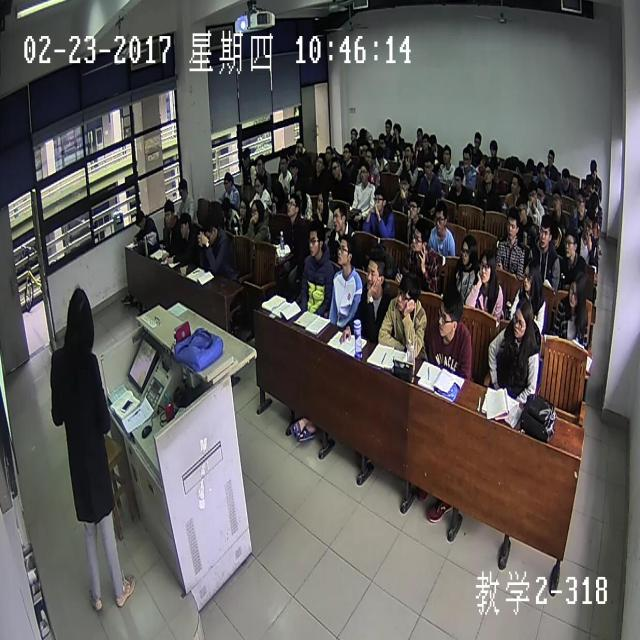person: (64, 288, 94, 350), (435, 286, 461, 336), (394, 270, 420, 318), (364, 254, 384, 298), (512, 298, 532, 338), (330, 202, 348, 238), (476, 248, 494, 284), (309, 220, 326, 254), (522, 256, 538, 292), (335, 239, 354, 269), (460, 227, 476, 261), (584, 213, 600, 247), (566, 279, 584, 308), (506, 213, 522, 243), (374, 189, 390, 218), (412, 221, 429, 248), (396, 166, 410, 198), (331, 151, 344, 185), (548, 219, 563, 248), (250, 201, 267, 226), (358, 165, 375, 190), (538, 216, 552, 246), (514, 192, 528, 222), (315, 188, 329, 216), (428, 128, 442, 156), (250, 170, 265, 196), (420, 154, 435, 180), (162, 198, 178, 222), (286, 191, 300, 218), (376, 130, 390, 157), (178, 210, 191, 239), (206, 222, 221, 247), (133, 204, 147, 230), (270, 178, 284, 204), (364, 146, 380, 168), (400, 143, 415, 166), (423, 193, 438, 216), (534, 160, 549, 183), (341, 142, 355, 166), (436, 206, 448, 234), (527, 180, 538, 210), (220, 194, 232, 221), (405, 201, 419, 224), (551, 190, 564, 214), (587, 188, 601, 210), (560, 166, 572, 191), (276, 148, 289, 171), (451, 170, 464, 193), (288, 158, 302, 179), (535, 182, 547, 206), (564, 233, 577, 255), (511, 178, 523, 201), (241, 148, 254, 169), (462, 149, 472, 176), (254, 152, 266, 174), (236, 199, 249, 219), (223, 172, 235, 193), (514, 160, 526, 180), (587, 155, 597, 179), (175, 178, 188, 196), (414, 123, 425, 143), (440, 143, 451, 163), (485, 168, 496, 188), (546, 148, 556, 170), (295, 134, 304, 158), (383, 113, 393, 134), (575, 189, 585, 210), (525, 157, 535, 178), (422, 132, 432, 152), (472, 129, 482, 149), (477, 154, 488, 172), (315, 150, 322, 177), (488, 140, 499, 157), (324, 142, 334, 160), (393, 123, 401, 145), (359, 126, 368, 142), (349, 127, 357, 141)
